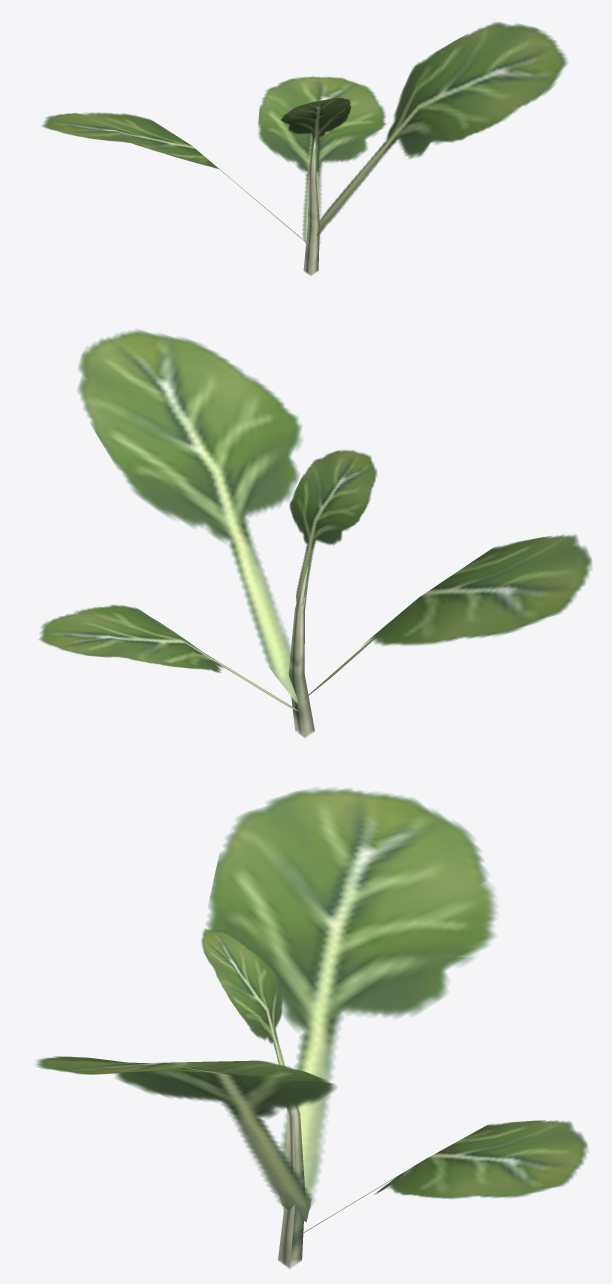
Rendered from plant_cabbage_S1.gltf.
3 renders of one model, top to bottom at view 1: azimuth 30°, elevation 25°; view 2: azimuth 150°, elevation 25°; view 3: azimuth 270°, elevation 25°, orthographic. The views are drawn at different scales.
Visible parts, largest first — view 1: plant_cabbage_S1; view 2: plant_cabbage_S1; view 3: plant_cabbage_S1.
Boxes of the visible parts, box(x1,y1,x2,y2) form: plant_cabbage_S1: box(41, 22, 567, 275); plant_cabbage_S1: box(39, 329, 591, 738); plant_cabbage_S1: box(35, 788, 588, 1268).
Size of the model in its own units: 0.4306 by 0.1899 by 0.2832.
Materials: 1 (1 with a texture image).
